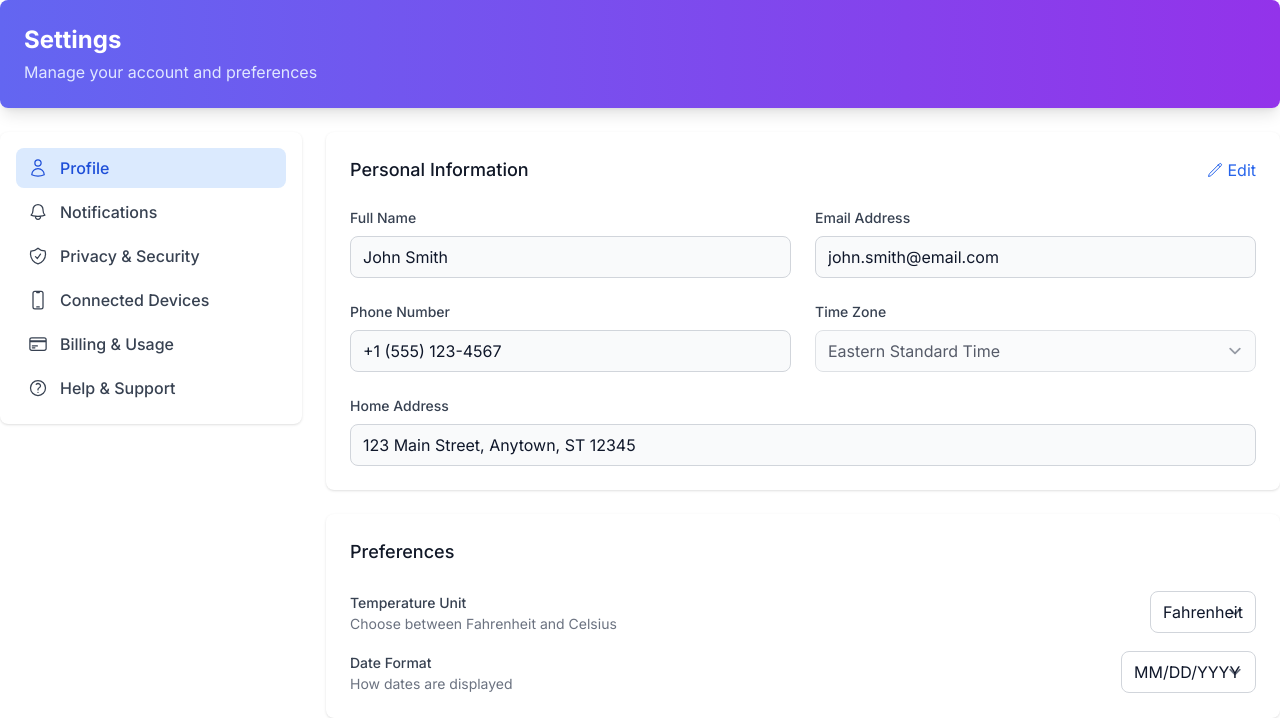
Test: ConsumerSettings › Error Handling › handles form submission errors
// Enter edit mode
Click the button "Edit" at (1232, 170), box [1208,158,1256,182]
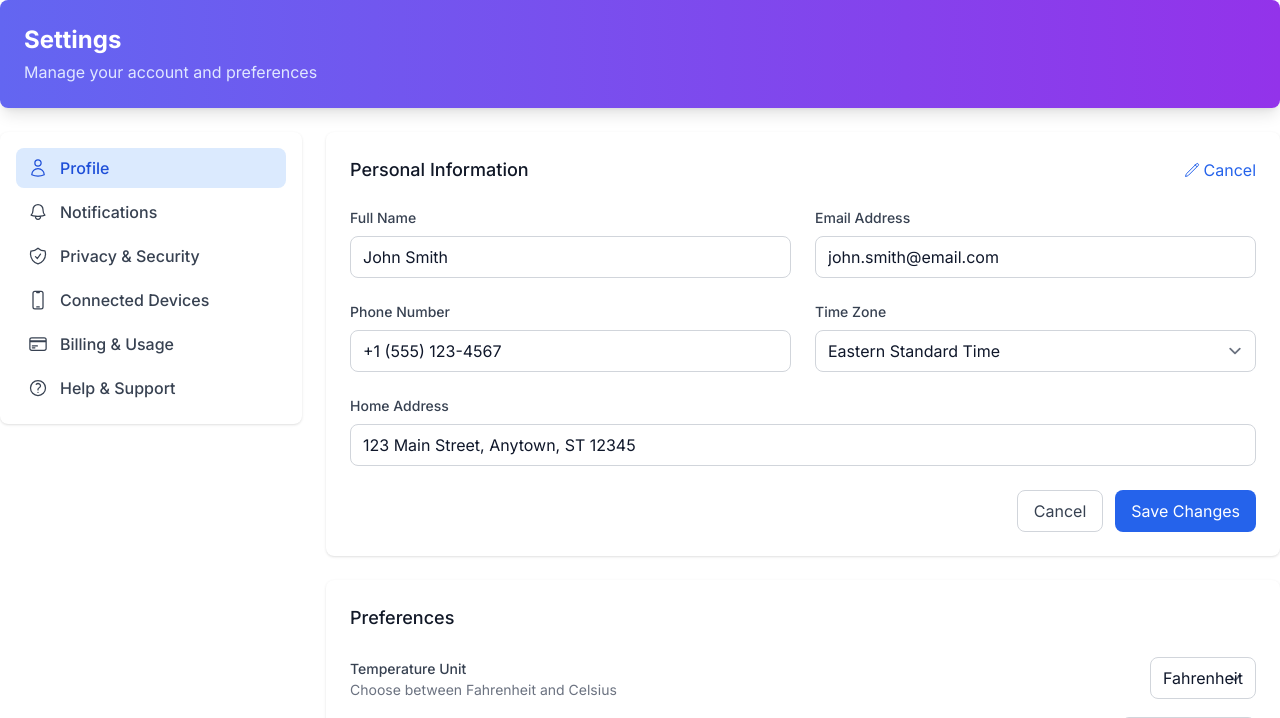
// Simulate form submission
Click the button "Save Changes" at (1186, 511), box [1115,490,1256,532]
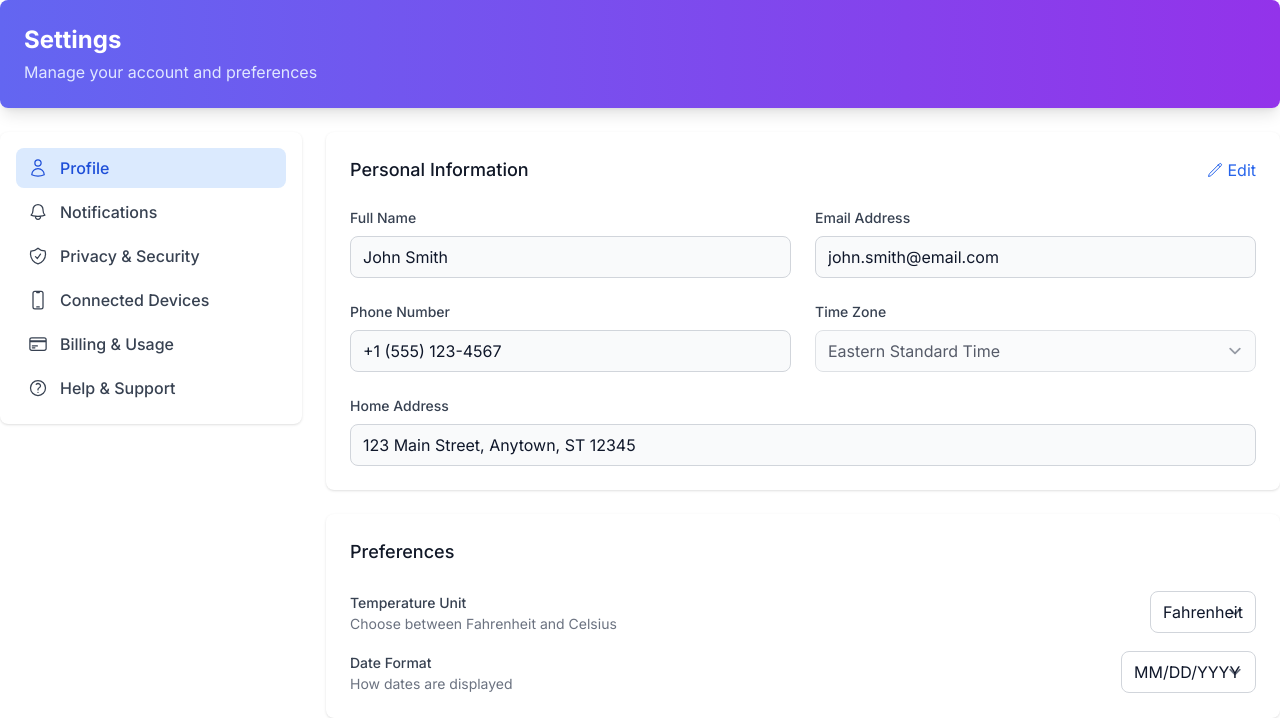
Expected: the text "Edit" is shown, [1228,158,1256,182]
